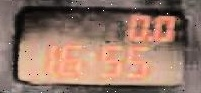-: (146, 33, 153, 40)
0: (124, 11, 148, 42), (153, 12, 176, 41)
1: (41, 42, 56, 76)
5: (94, 42, 123, 77), (124, 42, 148, 78)
6: (56, 42, 81, 77)
X: (83, 48, 94, 65)
